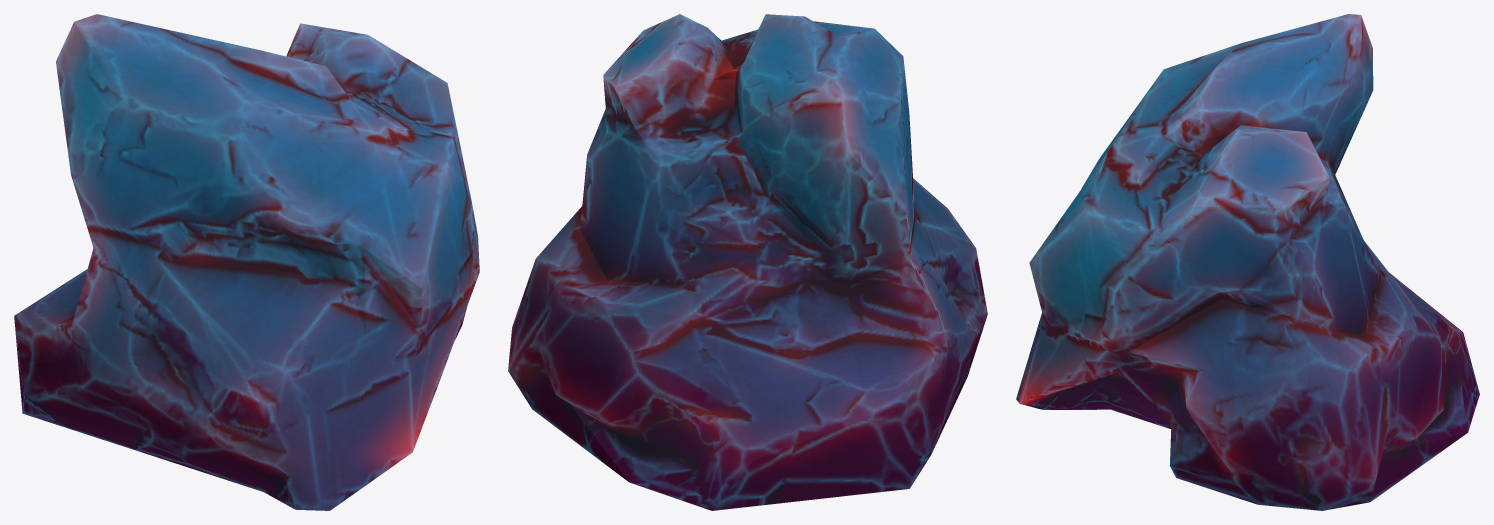
File: crystal-stone.glb
3 renders of one model, left to right at view 1: azimuth 30°, elevation 25°; view 2: azimuth 150°, elevation 25°; view 3: azimuth 270°, elevation 25°, orthographic. The views are drawn at different scales.
Parts seen in each view (by area): view 1: Stone_low_1; view 2: Stone_low_1; view 3: Stone_low_1.
Part boxes in pixels (left/top/right/bottom): Stone_low_1: left=14, top=14, right=479, bottom=510; Stone_low_1: left=508, top=14, right=987, bottom=510; Stone_low_1: left=1016, top=14, right=1479, bottom=510.
Size of what is drawn, in the model's own units: 2.38 by 2.15 by 2.52.
Materials: 1 (1 with a texture image).
